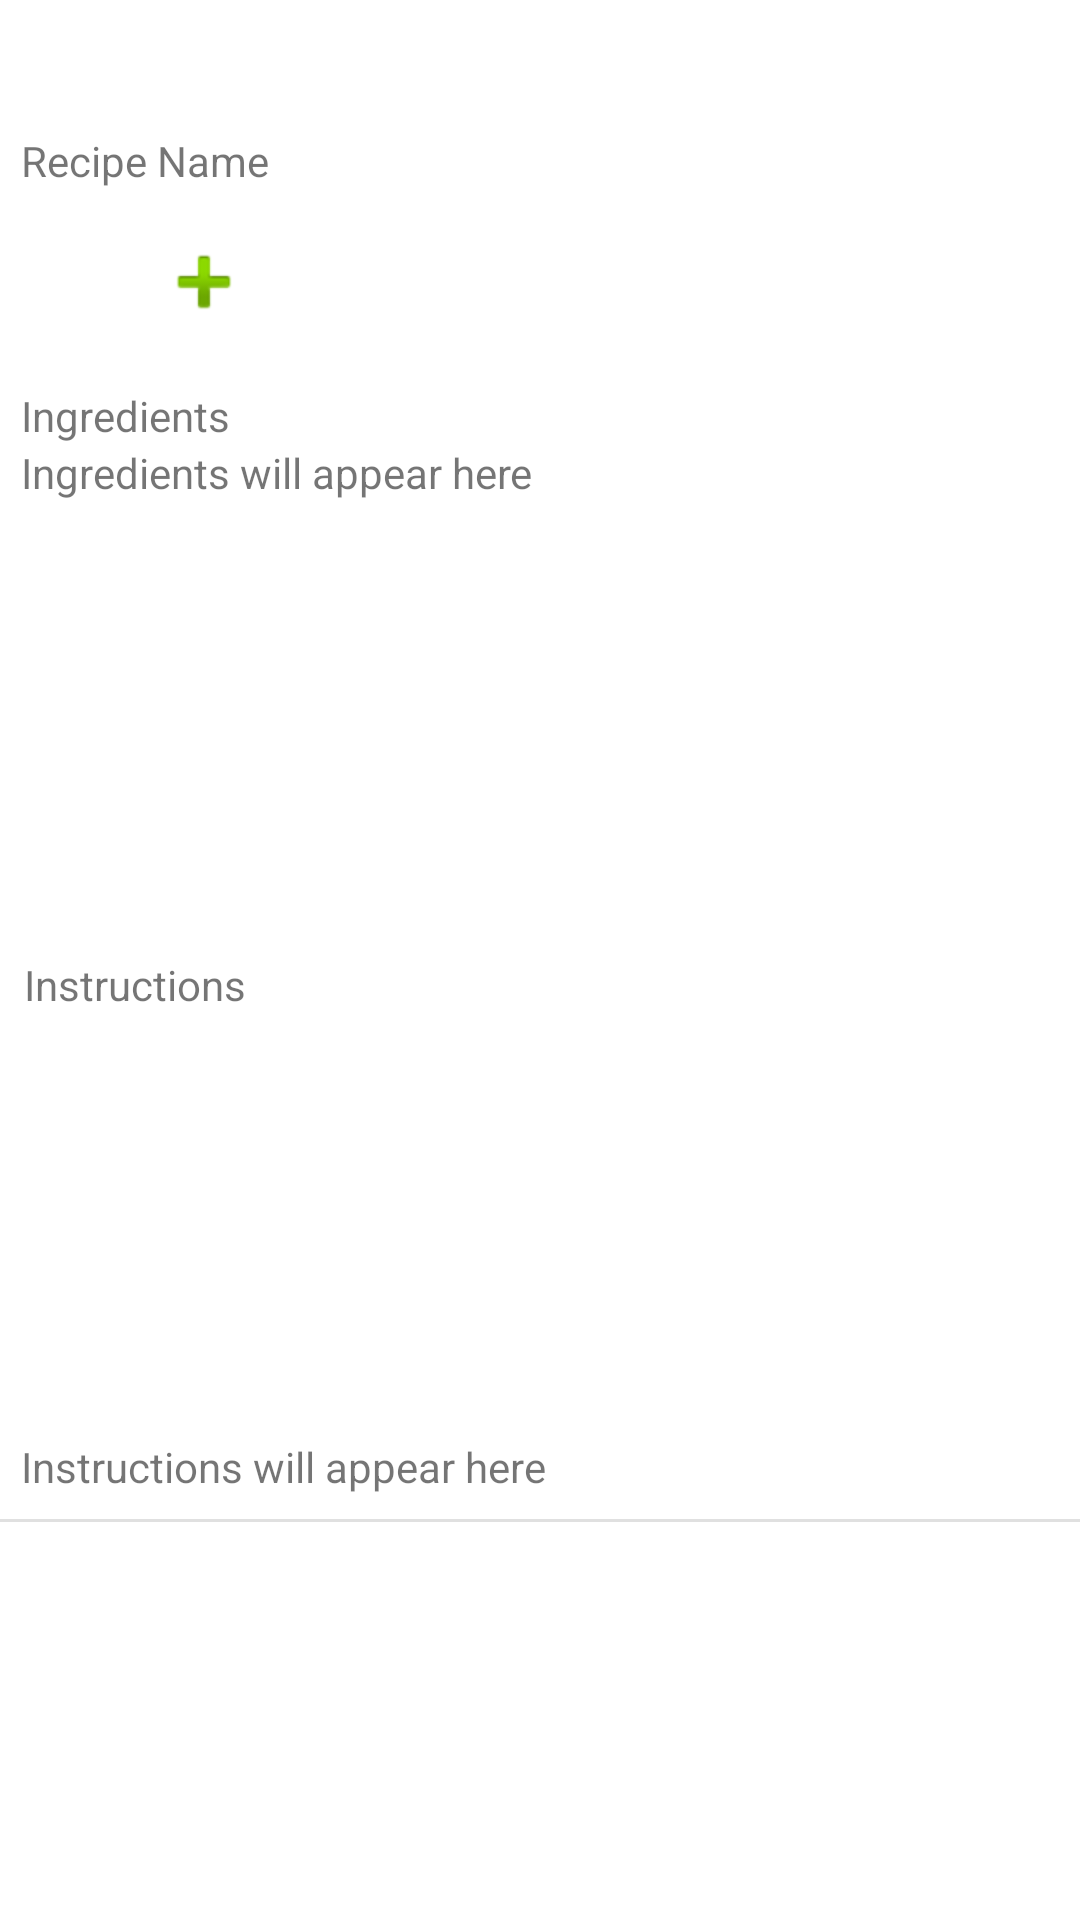

Where to tap for icons on this 1080px x 1920px app screen, as (x,y):
add: (204,282)
